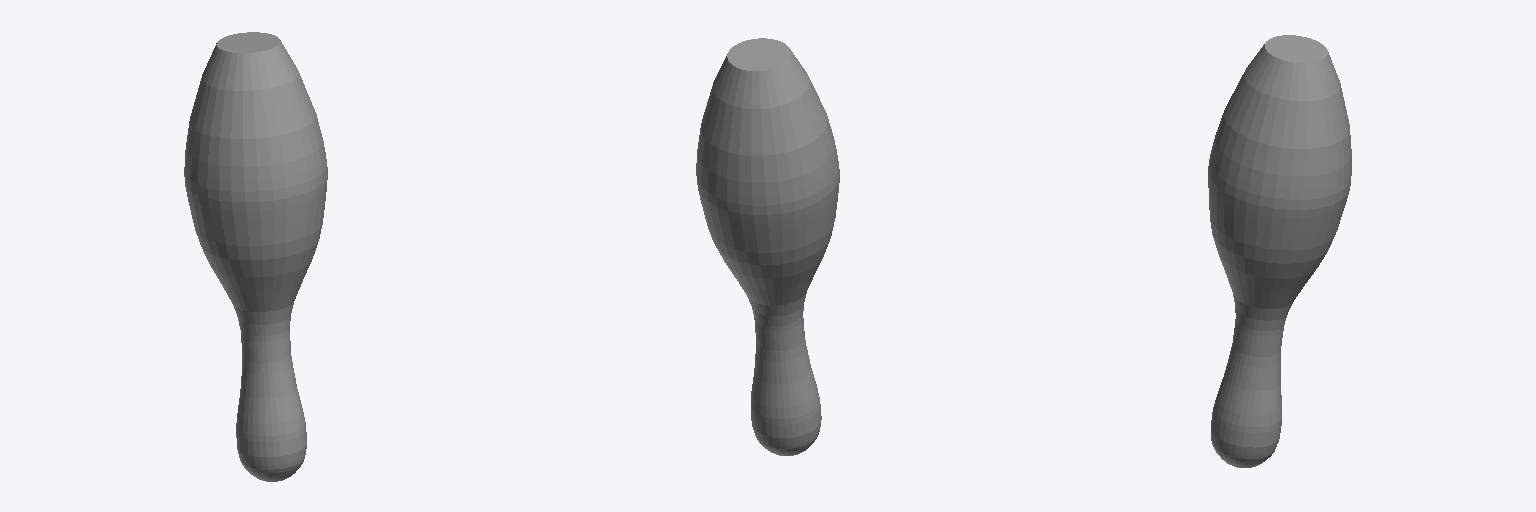
The model's file is bowlingPin4.obj.
3 renders of one model, left to right at view 1: azimuth 30°, elevation 25°; view 2: azimuth 150°, elevation 25°; view 3: azimuth 270°, elevation 25°, orthographic.
Parts seen in each view (by area): view 1: Cone_Cone.001; view 2: Cone_Cone.001; view 3: Cone_Cone.001.
Boxes of the visible parts, x1,y1,x2,y2 form: Cone_Cone.001: [184, 32, 327, 481]; Cone_Cone.001: [696, 38, 839, 455]; Cone_Cone.001: [1208, 35, 1351, 467].
Size of the model in its own units: 32.91 by 107 by 33.07.